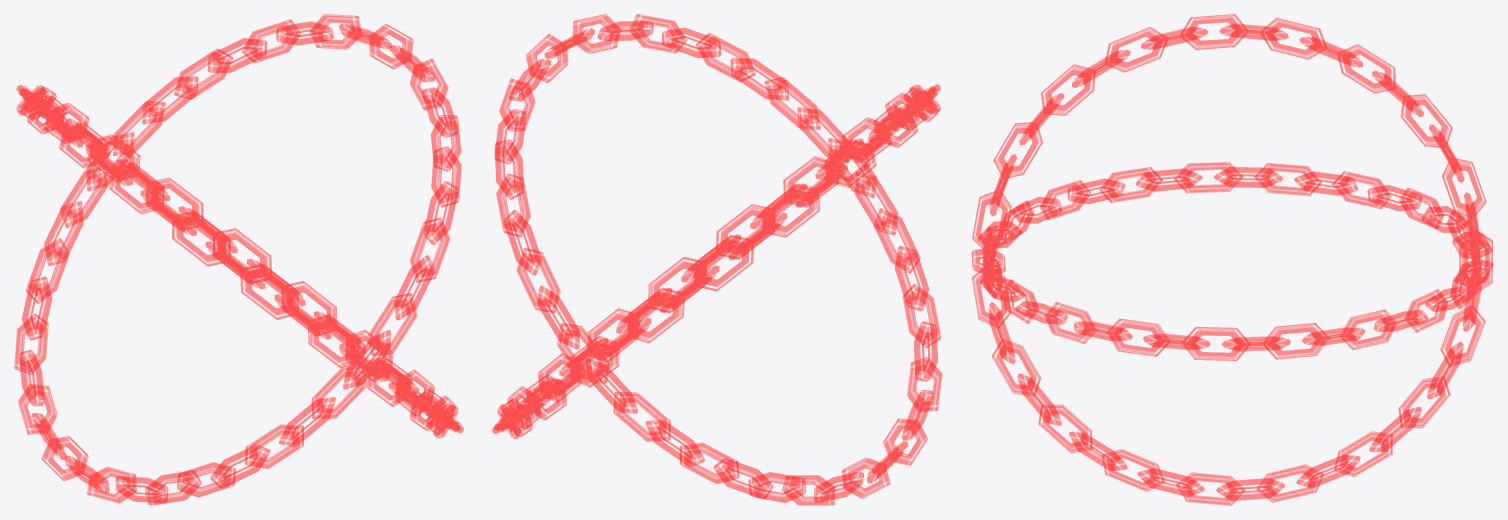
Rendered from Trap1.glb.
The picture shows the model from 3 angles, left to right: view 1: azimuth 30°, elevation 25°; view 2: azimuth 150°, elevation 25°; view 3: azimuth 270°, elevation 25°; orthographic projection. The views are drawn at different scales.
Parts seen in each view (by area): view 1: Torus.008, Torus.006; view 2: Torus.008, Torus.006; view 3: Torus.006, Torus.008.
Boxes of the visible parts, left/top/right/bottom form: Torus.008: left=14, top=14, right=461, bottom=505; Torus.006: left=16, top=85, right=463, bottom=438; Torus.008: left=494, top=14, right=942, bottom=505; Torus.006: left=492, top=84, right=940, bottom=438; Torus.006: left=972, top=14, right=1492, bottom=505; Torus.008: left=971, top=162, right=1493, bottom=360.
Bounding box in the file's own units: 1.06 × 1.07 × 1.48.
1 material, 1 textured.
